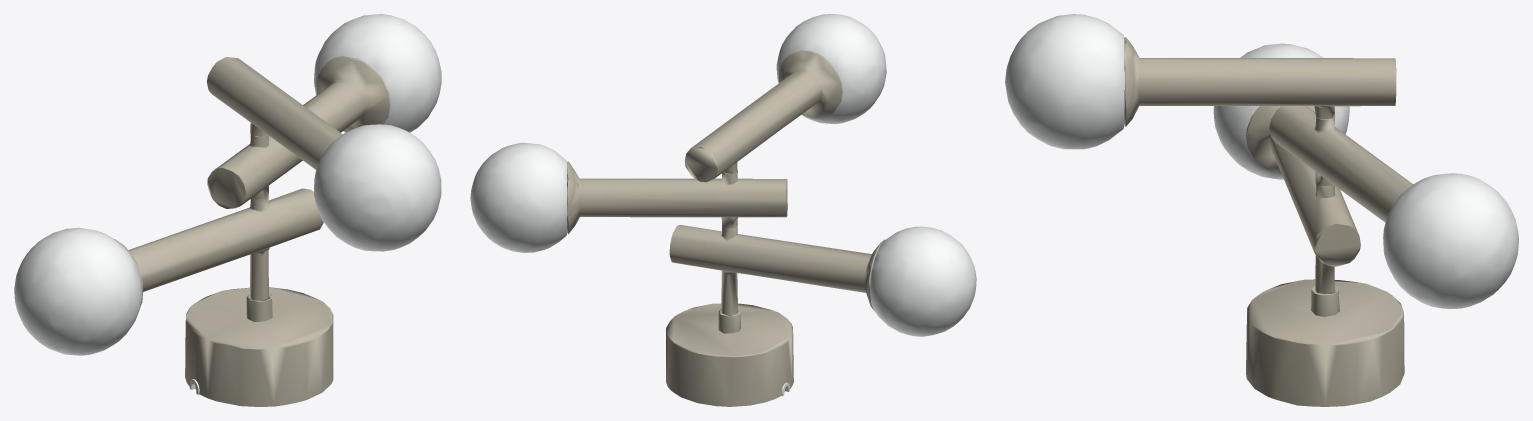
3 views of the same model, side by side, from view 1: azimuth 30°, elevation 25°; view 2: azimuth 150°, elevation 25°; view 3: azimuth 270°, elevation 25° (orthographic). The views are drawn at different scales.
Visible parts, largest first — view 1: ASY_ART_90549405_S01_NV01, ASY_LPT08_90549405_S01_NV01, ASY_LPT07_90549405_S01_NV01, ASY_LPT03_90549405_S01_NV01, ASY_LPT02_90549405_S01_NV01, ASY_LPT09_90549405_S01_NV01, ASY_LPT01_90549405_S01_NV01; view 2: ASY_ART_90549405_S01_NV01, ASY_LPT08_90549405_S01_NV01, ASY_LPT02_90549405_S01_NV01, ASY_LPT09_90549405_S01_NV01, ASY_LPT03_90549405_S01_NV01, ASY_LPT01_90549405_S01_NV01, ASY_LPT07_90549405_S01_NV01; view 3: ASY_ART_90549405_S01_NV01, ASY_LPT09_90549405_S01_NV01, ASY_LPT01_90549405_S01_NV01, ASY_LPT07_90549405_S01_NV01, ASY_LPT02_90549405_S01_NV01, ASY_LPT03_90549405_S01_NV01, ASY_LPT08_90549405_S01_NV01.
Part boxes in pixels (box(x1,y1,x2,y2)): ASY_ART_90549405_S01_NV01: box(185, 287, 333, 406); ASY_LPT08_90549405_S01_NV01: box(14, 227, 142, 355); ASY_LPT07_90549405_S01_NV01: box(314, 124, 441, 251); ASY_LPT03_90549405_S01_NV01: box(114, 188, 323, 304); ASY_LPT02_90549405_S01_NV01: box(207, 56, 390, 208); ASY_LPT09_90549405_S01_NV01: box(314, 14, 441, 132); ASY_LPT01_90549405_S01_NV01: box(207, 57, 342, 169); ASY_ART_90549405_S01_NV01: box(666, 303, 793, 406); ASY_LPT08_90549405_S01_NV01: box(870, 226, 976, 336); ASY_LPT02_90549405_S01_NV01: box(567, 161, 787, 234); ASY_LPT09_90549405_S01_NV01: box(470, 142, 567, 252); ASY_LPT03_90549405_S01_NV01: box(669, 225, 885, 315); ASY_LPT01_90549405_S01_NV01: box(685, 50, 842, 182); ASY_LPT07_90549405_S01_NV01: box(776, 14, 886, 124); ASY_ART_90549405_S01_NV01: box(1246, 279, 1404, 406); ASY_LPT09_90549405_S01_NV01: box(1383, 173, 1518, 309); ASY_LPT01_90549405_S01_NV01: box(1124, 37, 1396, 126); ASY_LPT07_90549405_S01_NV01: box(1005, 14, 1124, 149); ASY_LPT02_90549405_S01_NV01: box(1269, 106, 1412, 222); ASY_LPT03_90549405_S01_NV01: box(1246, 106, 1360, 293); ASY_LPT08_90549405_S01_NV01: box(1213, 43, 1349, 179).
Size of the model in its own units: 0.5696 by 0.3691 by 0.486.
Materials: 12 (7 with a texture image).
